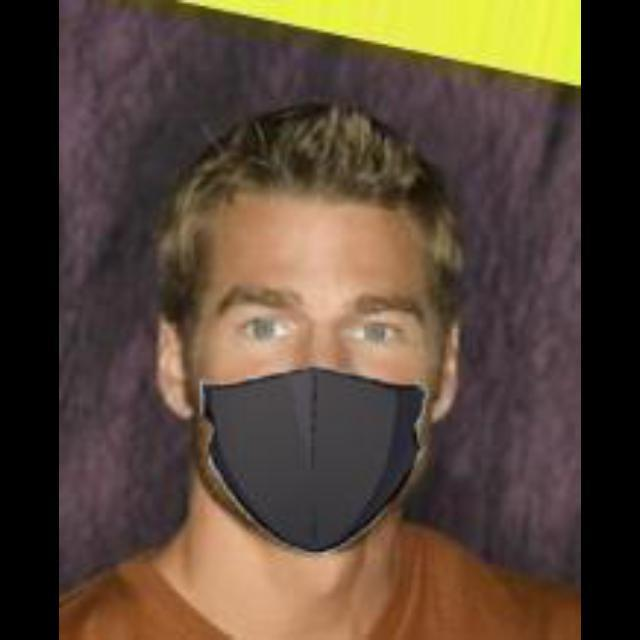suspicion: (125, 88, 462, 536)
